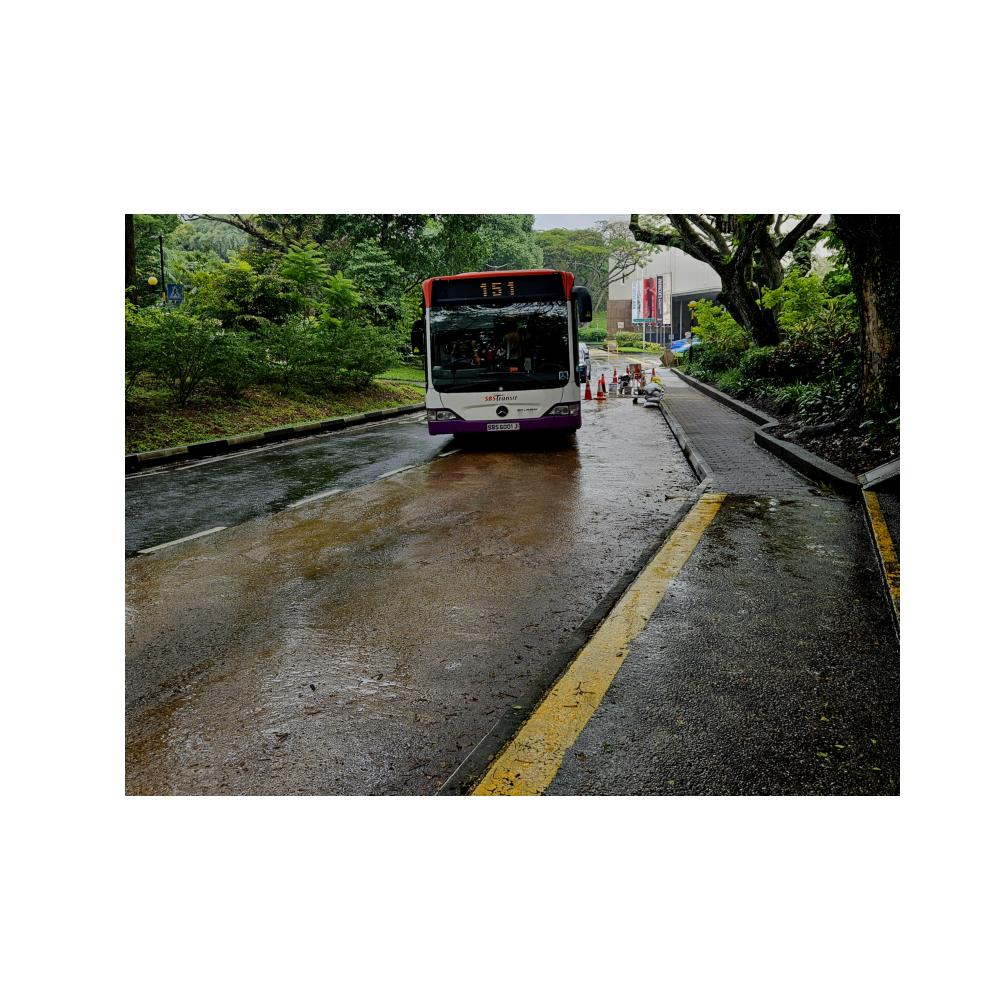bus: (408, 264, 594, 451)
